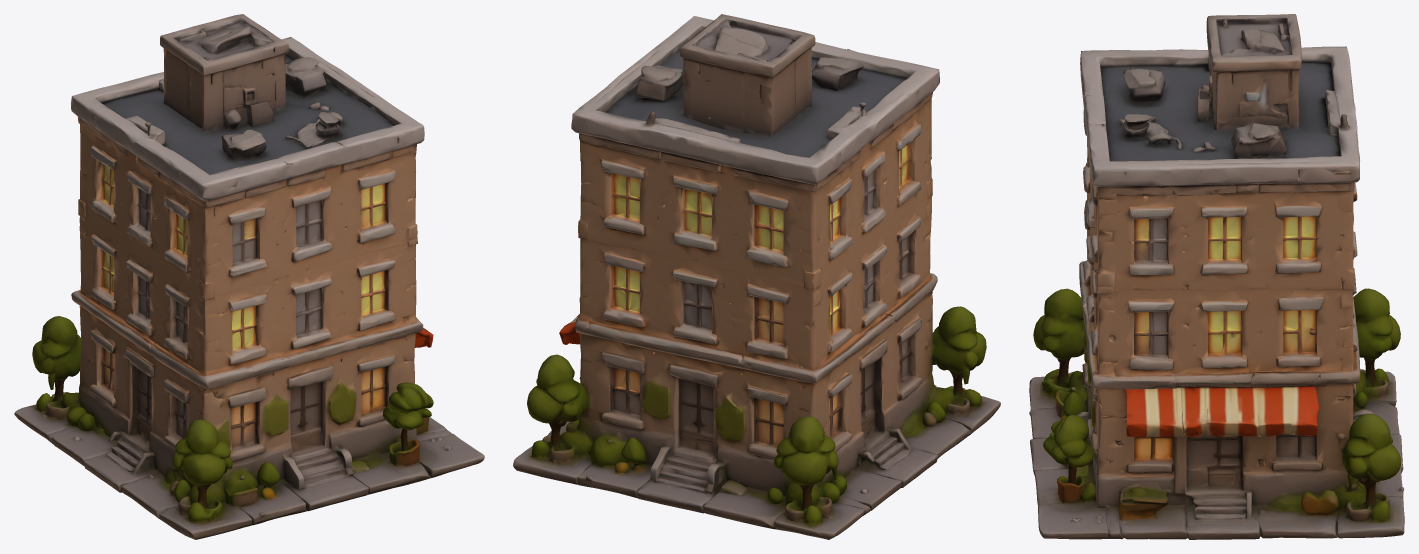
3 renders of one model, left to right at view 1: azimuth 30°, elevation 25°; view 2: azimuth 150°, elevation 25°; view 3: azimuth 270°, elevation 25°, orthographic. The views are drawn at different scales.
Visible parts, largest first — view 1: tripo_node_c8db30cf-2ed6-4c22-a543-931bf93bc859; view 2: tripo_node_c8db30cf-2ed6-4c22-a543-931bf93bc859; view 3: tripo_node_c8db30cf-2ed6-4c22-a543-931bf93bc859.
Part boxes in pixels (x1,y1,x2,y2): tripo_node_c8db30cf-2ed6-4c22-a543-931bf93bc859: [14, 14, 484, 539]; tripo_node_c8db30cf-2ed6-4c22-a543-931bf93bc859: [513, 14, 1000, 539]; tripo_node_c8db30cf-2ed6-4c22-a543-931bf93bc859: [1029, 14, 1404, 539].
Size of the model in its own units: 0.8109 by 1 by 0.7961.
1 material, 1 textured.
